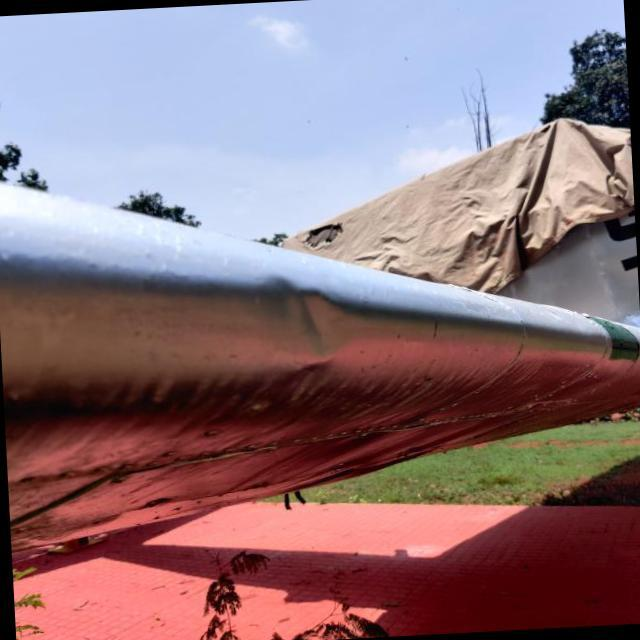Dent: (240, 252, 366, 378)
